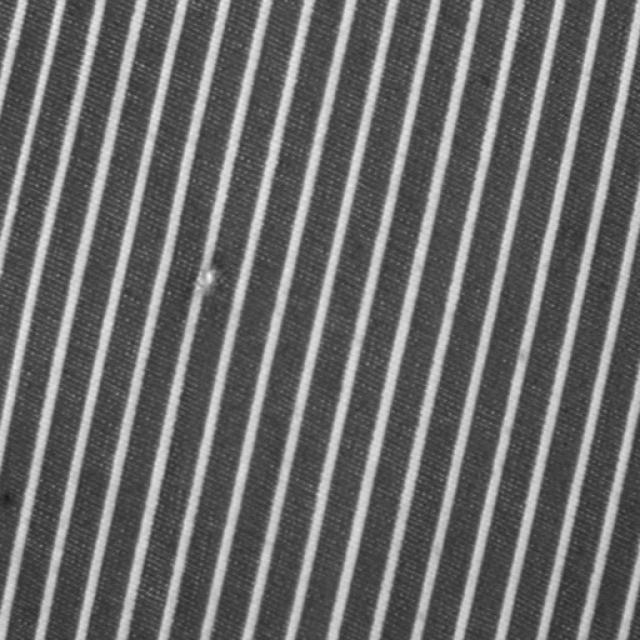Hole-Defect: (191, 259, 229, 298)
